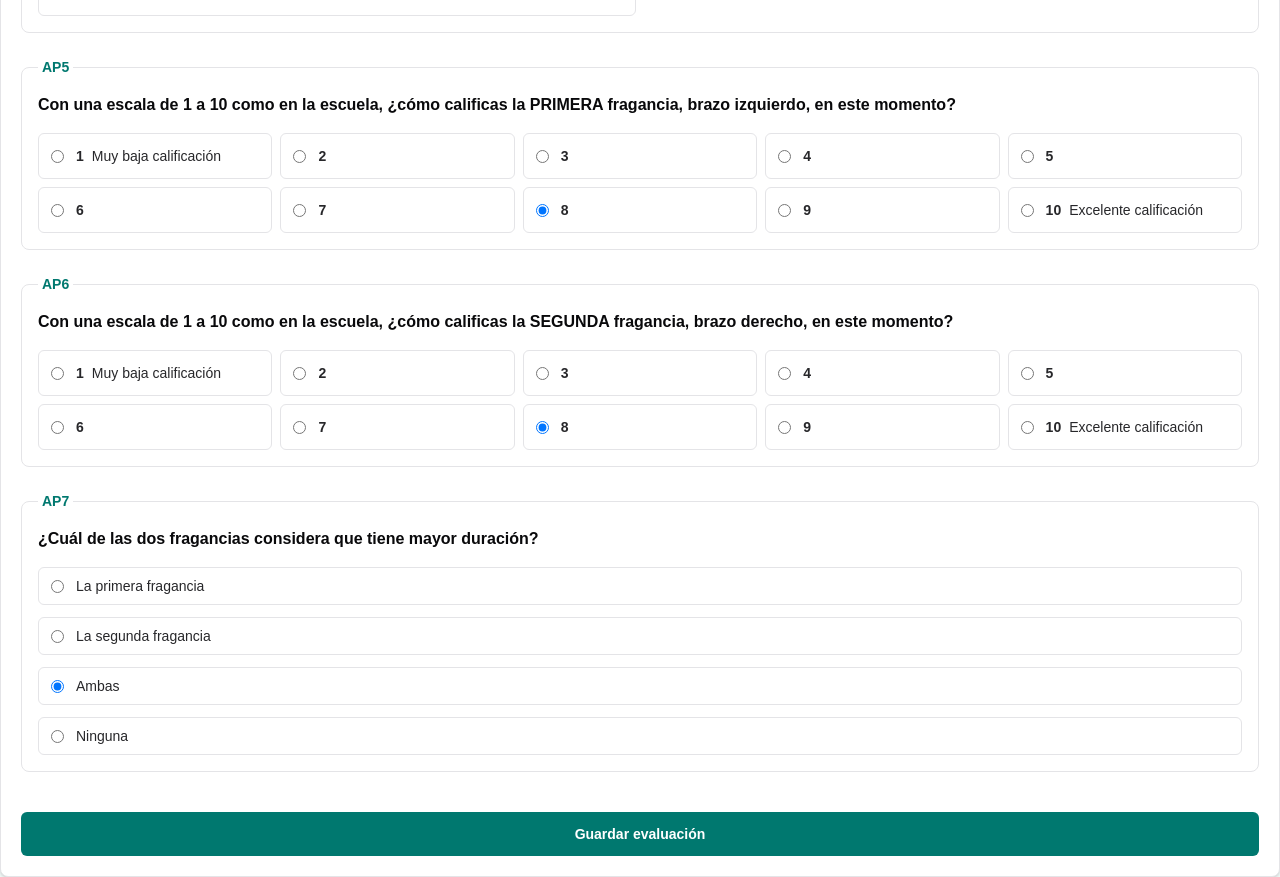
Test: NavigoActivityCapture › reactivates the button and keeps answers when saving fails
(page scrolled)
Click the button "Guardar evaluación" at (640,834), box [21,812,1259,856]
(page scrolled)
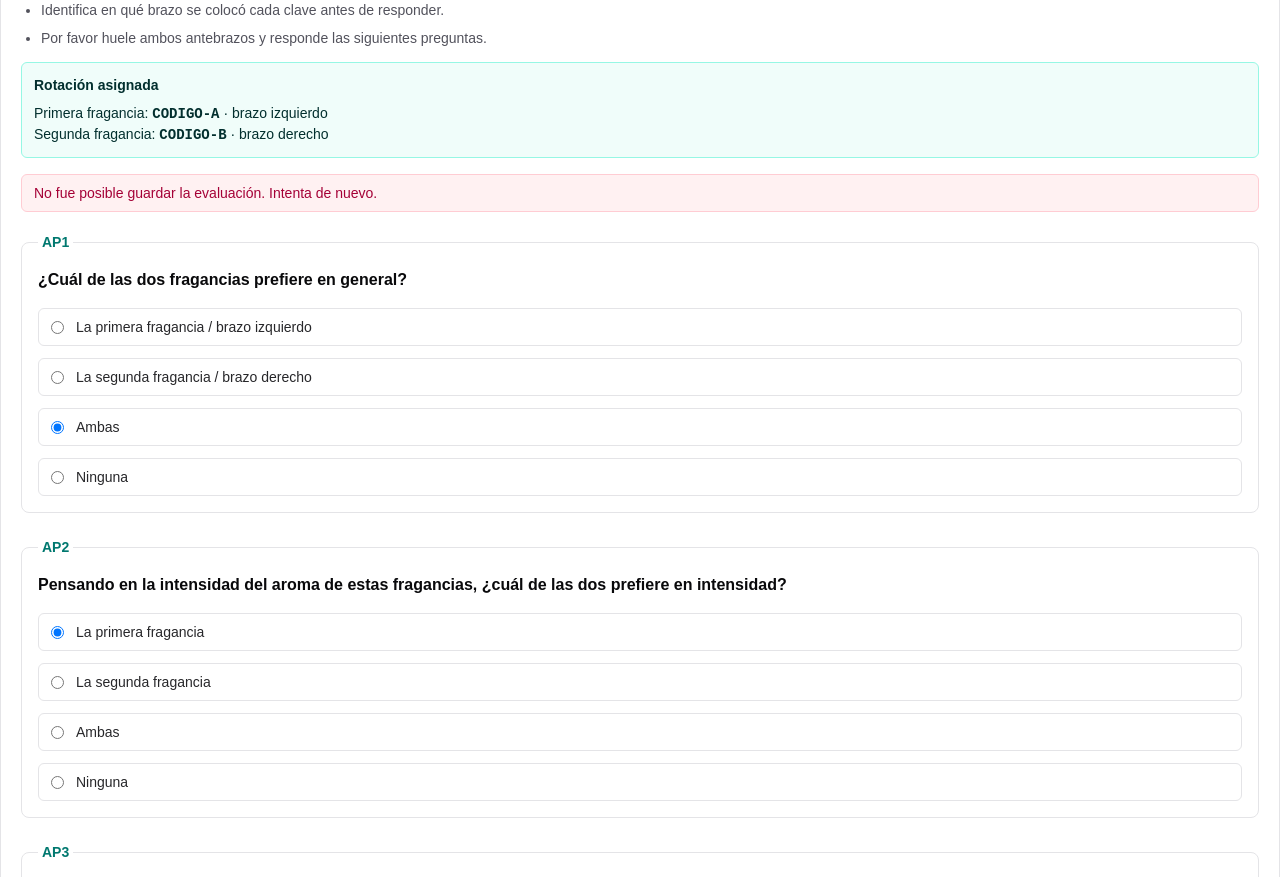
Expected: the radio button showing "AMBAS" below "La segunda fragancia / brazo derecho" is checked, [51,420,64,434]
Expected: the text "No fue posible guardar la evaluación. Intenta de nuevo." is shown, [21,174,1259,212]
